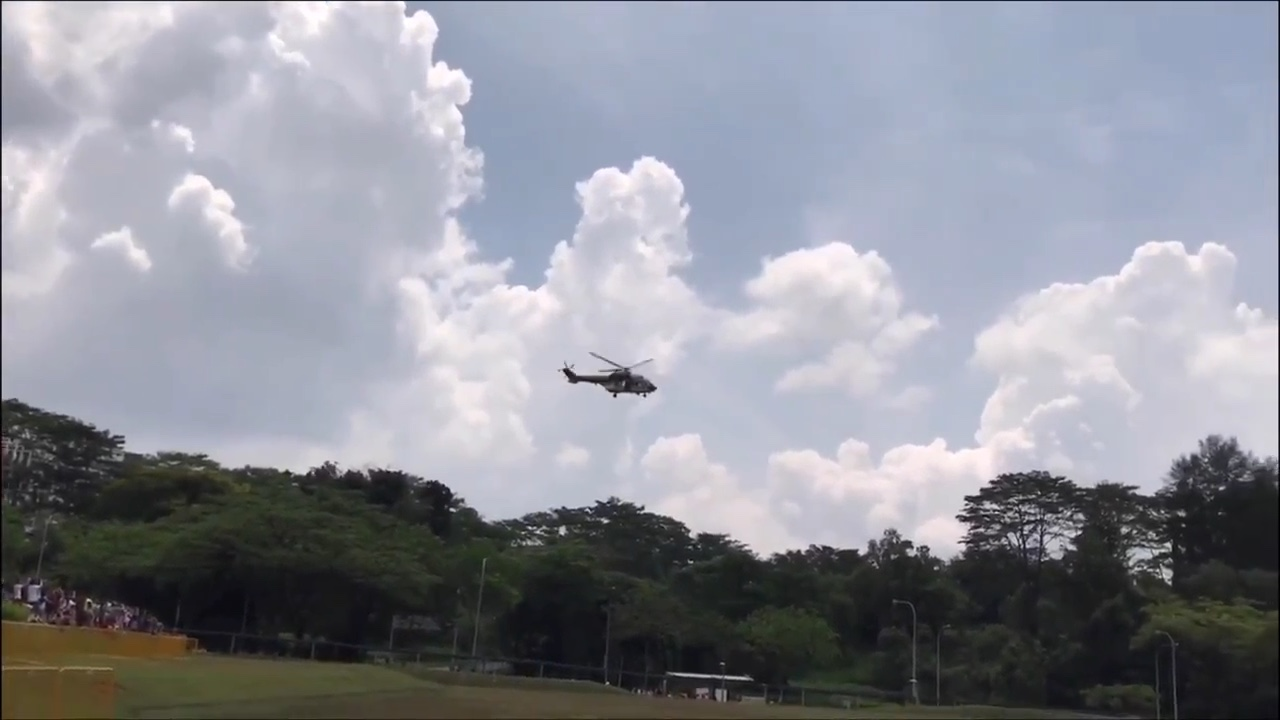cougar: (557, 348, 660, 400)
